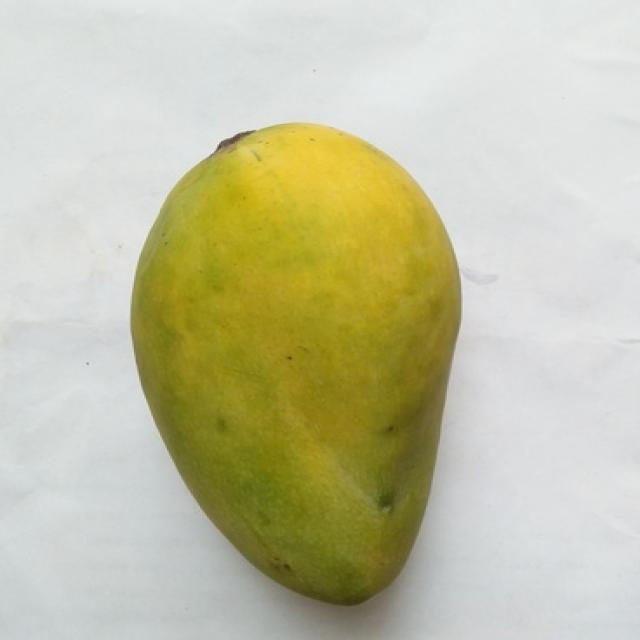Mango: (130, 124, 459, 602)
